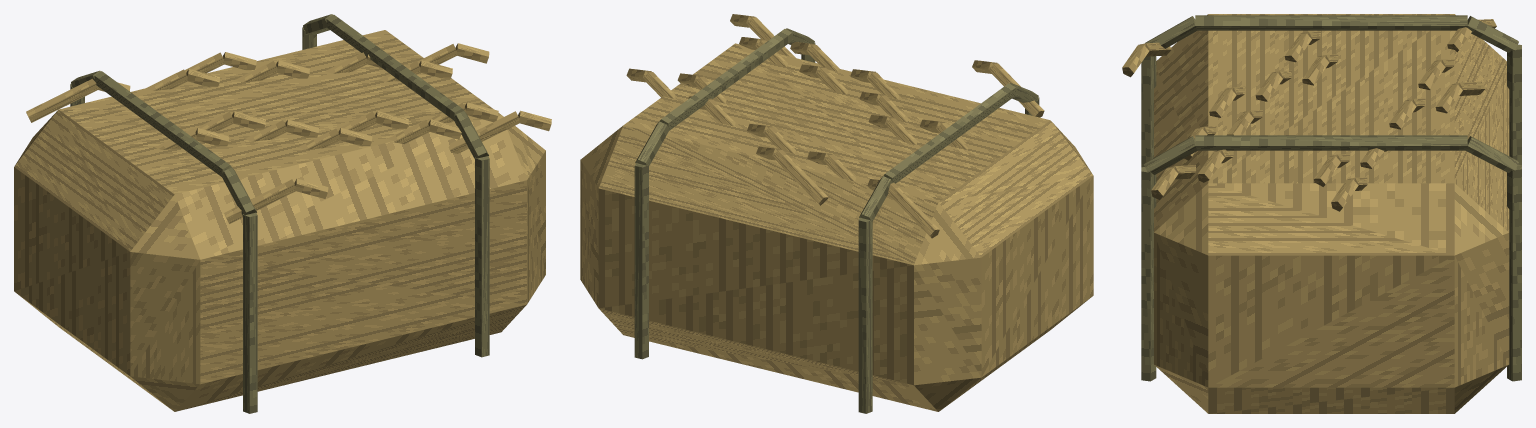
Rendered from cattlefodder_large.glb.
3 renders of one model, left to right at view 1: azimuth 30°, elevation 25°; view 2: azimuth 150°, elevation 25°; view 3: azimuth 270°, elevation 25°, orthographic. The views are drawn at different scales.
Visible parts, largest first — view 1: block_packed fodder, block_twine 4 (×2), block_twine 2 (×2), block_dry stem 0 (×4), block_twine 3 (×2); view 2: block_packed fodder, block_twine 0 (×2), block_twine 2 (×2), block_dry stem 0 (×3), block_twine 1 (×2); view 3: block_packed fodder, block_twine 2 (×2), block_dry stem 1 (×12), block_twine 0 (×2), block_twine 4 (×2), block_twine 1 (×2), block_twine 3 (×2).
Part boxes in pixels (x1,y1,x2,y2): block_packed fodder: [14, 30, 545, 411]; block_twine 4 (×2): [243, 156, 489, 413]; block_twine 2 (×2): [94, 14, 463, 177]; block_dry stem 0 (×4): [26, 79, 519, 223]; block_twine 3 (×2): [222, 111, 488, 215]; block_packed fodder: [580, 43, 1093, 411]; block_twine 0 (×2): [634, 163, 872, 413]; block_twine 2 (×2): [659, 29, 1015, 183]; block_dry stem 0 (×3): [773, 63, 1044, 238]; block_twine 1 (×2): [635, 121, 892, 220]; block_packed fodder: [1154, 14, 1509, 413]; block_twine 2 (×2): [1195, 15, 1467, 150]; block_dry stem 1 (×12): [1122, 33, 1462, 211]; block_twine 0 (×2): [1507, 44, 1521, 381]; block_twine 4 (×2): [1141, 56, 1156, 381]; block_twine 1 (×2): [1465, 16, 1518, 172]; block_twine 3 (×2): [1144, 16, 1197, 174].
Size of the model in its own units: 0.3911 by 0.2127 by 0.3033.
Materials: 1 (1 with a texture image).
